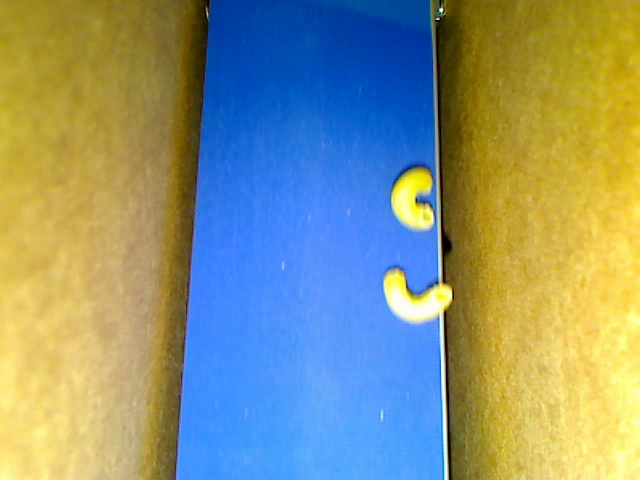elbow: (383, 267, 453, 324), (391, 166, 435, 232)
